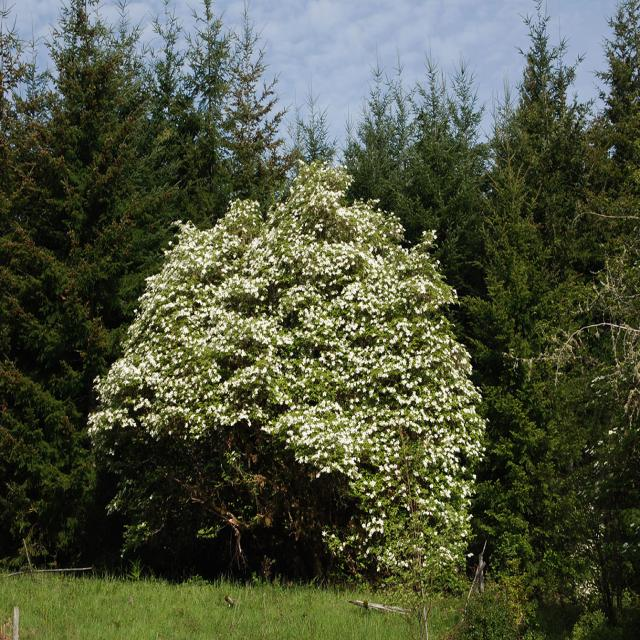Cornus nuttallii: (77, 159, 485, 594)
